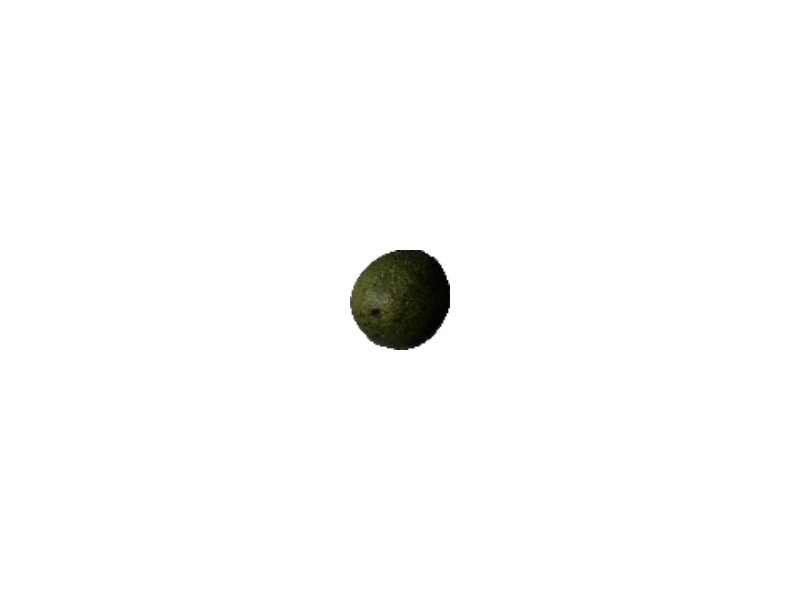abacate: (346, 246, 453, 353)
